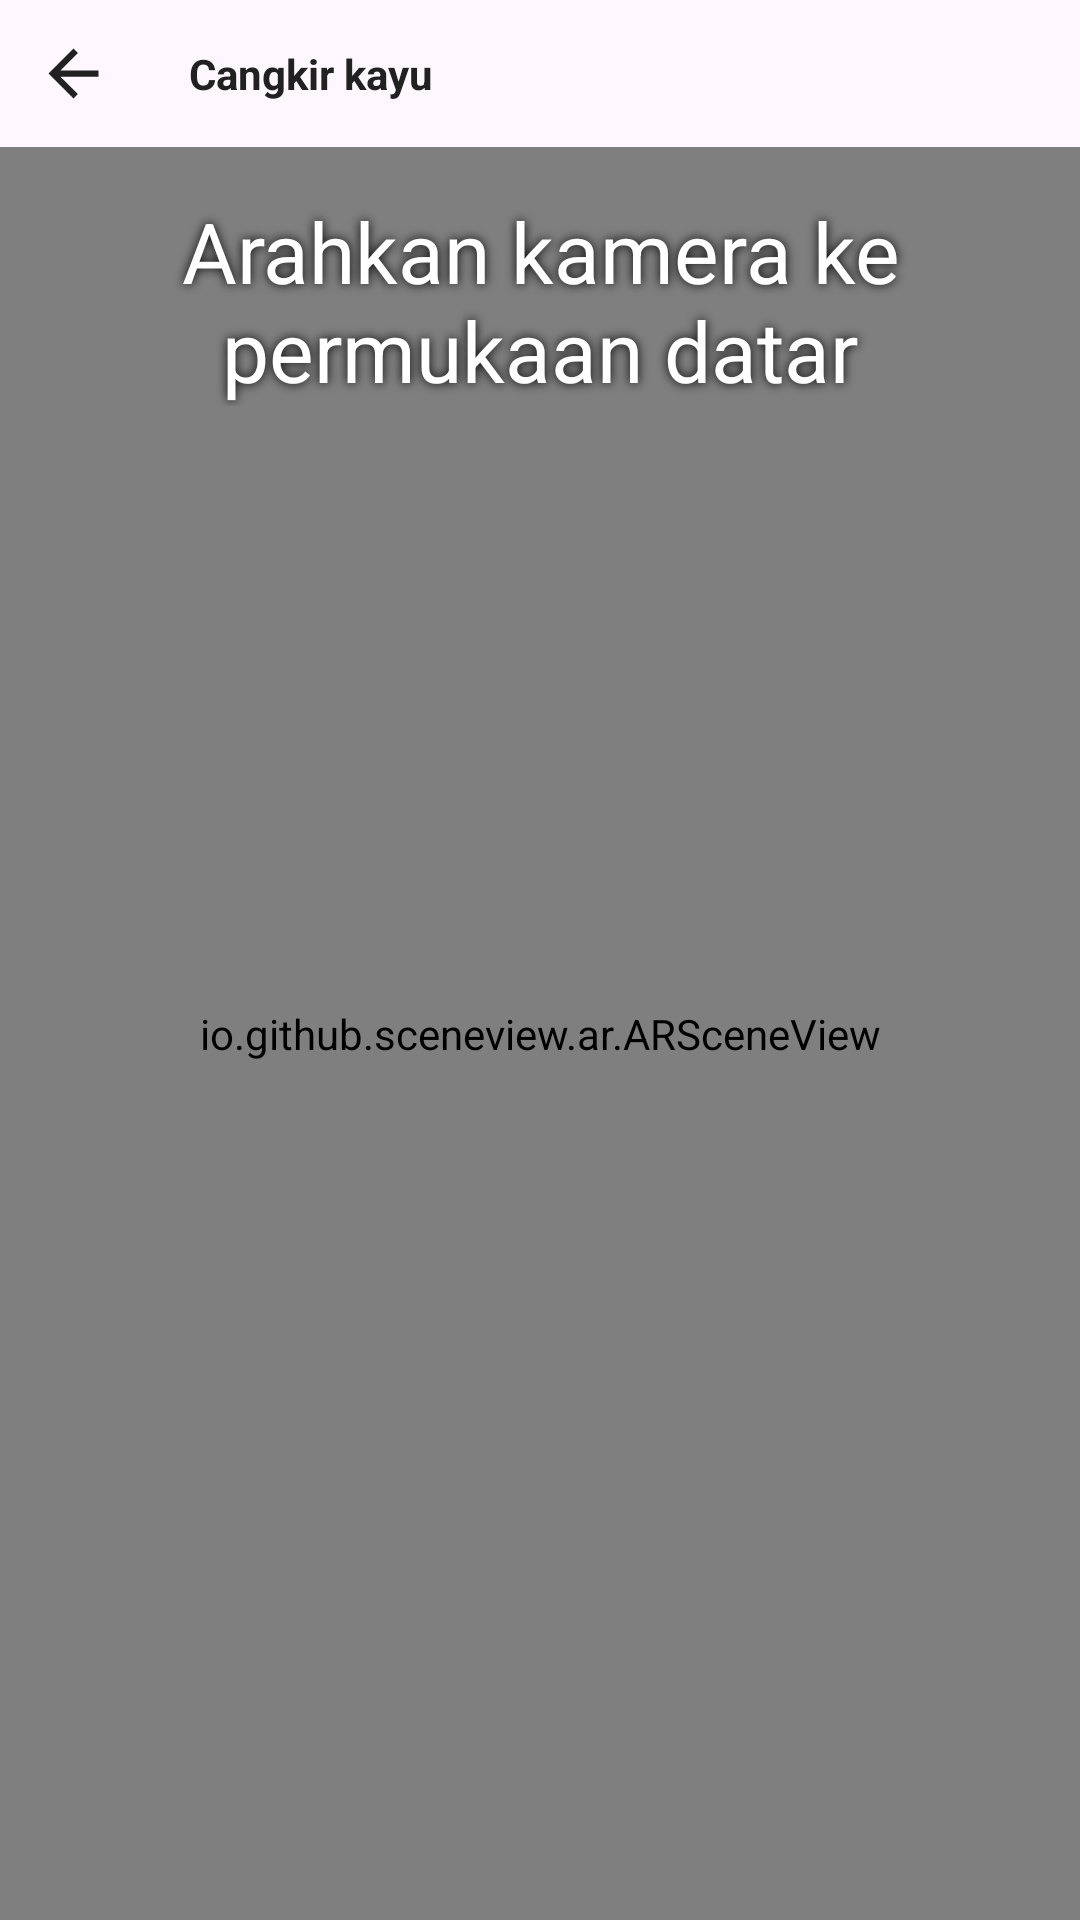

Screen size 1080x1920. Icon name, then its box in pixels as (x1, y1, x2, y2):
Kembali: (48, 48, 99, 99)
